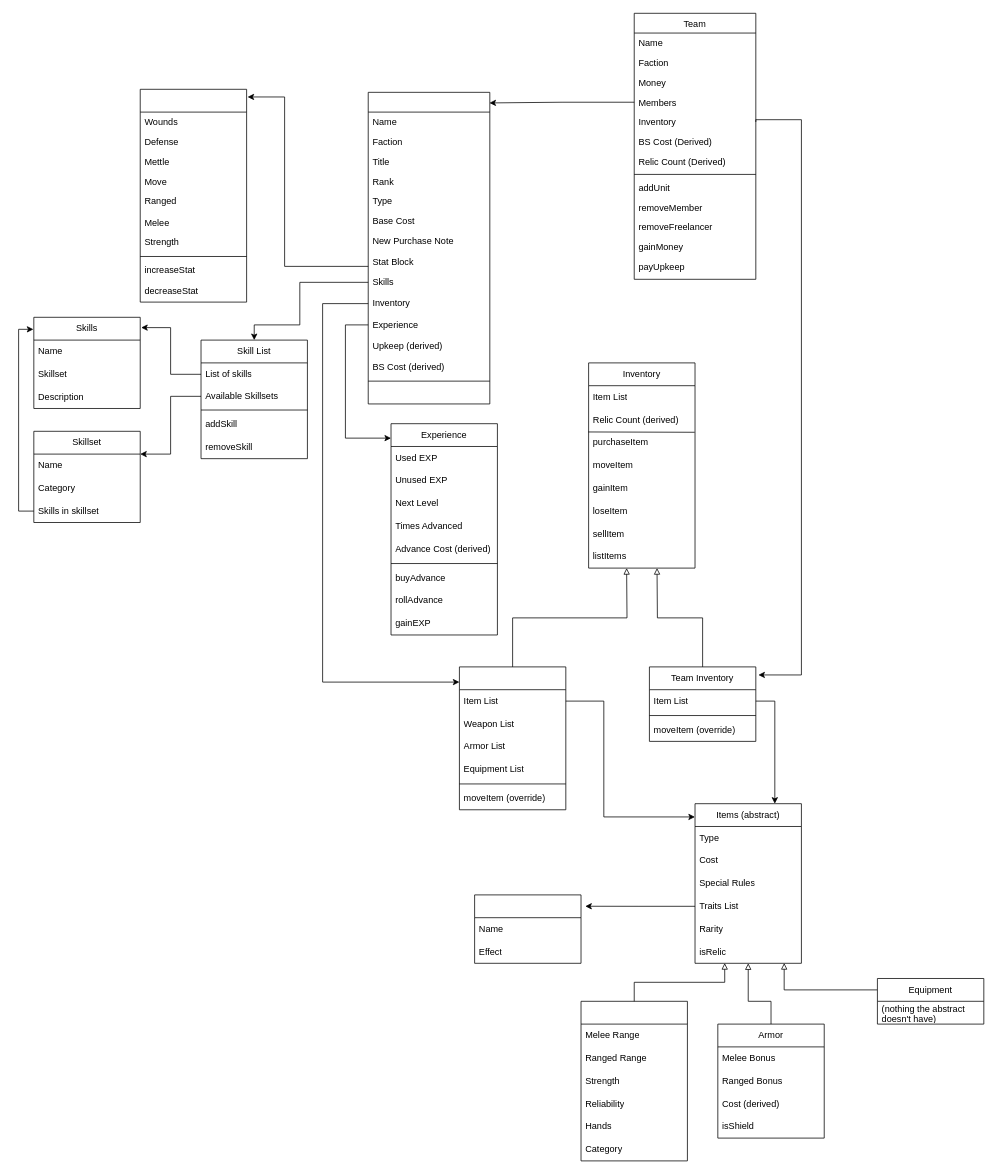
Image size: 997x1174. Some labels were removed from this diagram. The shapes that lost their labels are listed below. From the top down, each one's box as (x1, y1, x2, y2) in pixels, then its label:
(139, 89, 247, 302): Stats
(367, 92, 490, 404): Unit
(459, 666, 566, 810): Unit Inventory
(474, 894, 581, 963): Item Traits
(580, 1001, 687, 1161): Weapons
